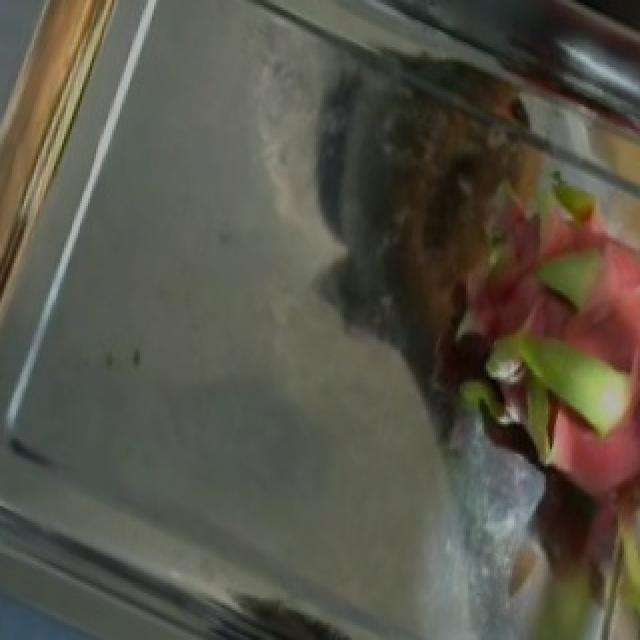fruit: (352, 109, 640, 533)
